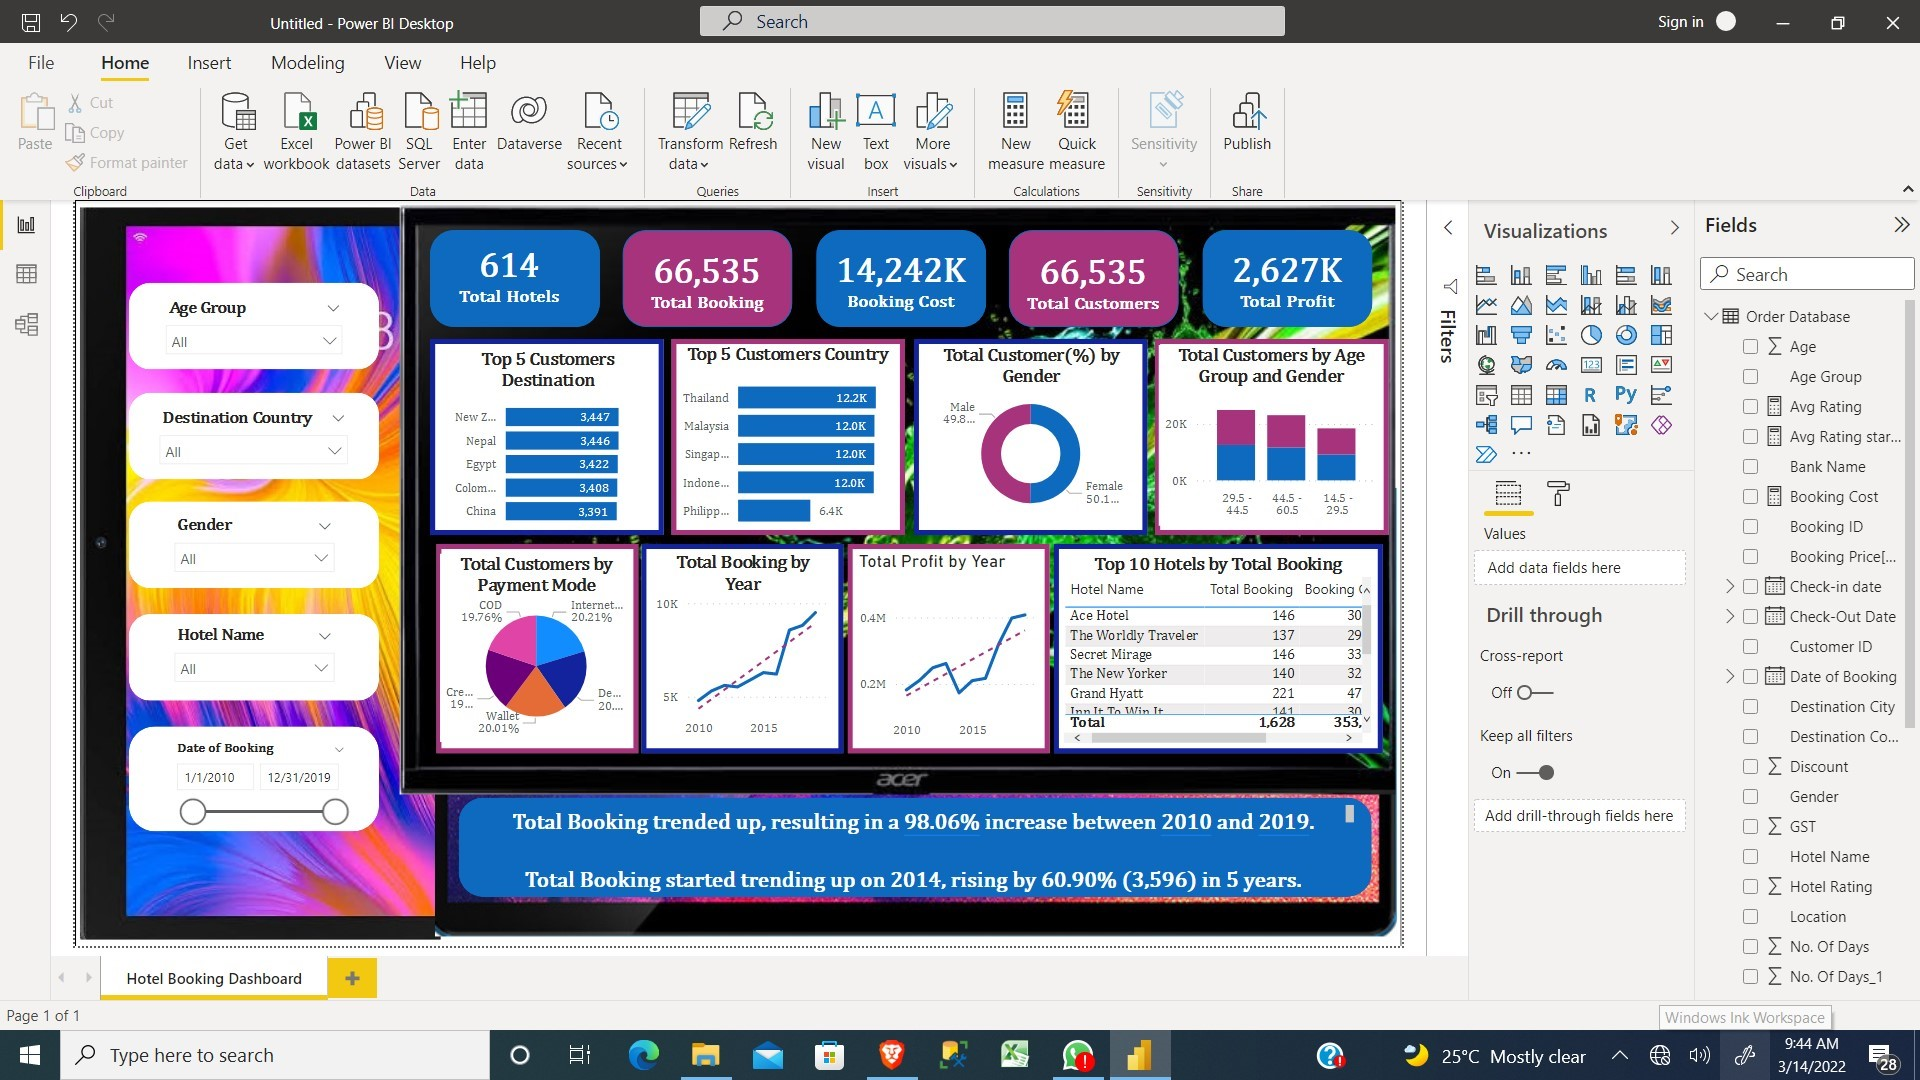

The dashboard page shown, as its layout file describes it:
{"tool":"powerbi","page":{"name":"Hotel Booking Dashboard","canvas":[1280,720],"ordinal":0},"visuals":[{"type":"shape","box":[0,0,1280,720.4],"z":0},{"type":"image","box":[0,0,357.5,720.4],"z":1000},{"type":"image","box":[342.3,269.5,937.7,451],"z":2000},{"type":"image","box":[308,0,972,578.8],"z":3000},{"type":"shape","box":[52,79.7,242,83.9],"z":4000},{"type":"slicer","fields":{"Values":["Order Database.Age Group"]},"box":[77,90.7,191.1,64.6],"z":5000},{"type":"shape","box":[52,186.1,242,83.9],"z":6000},{"type":"shape","box":[52,398.7,242,83.9],"z":7000},{"type":"shape","box":[52,291,242,83.9],"z":8000},{"type":"slicer","fields":{"Values":["Order Database.Destination Country"]},"box":[71.5,196.6,202.1,63.2],"z":9000},{"type":"slicer","fields":{"Values":["Order Database.Gender"]},"box":[85.2,299.7,174.6,66],"z":10000},{"type":"shape","box":[52,507.8,242,101.7],"z":11000},{"type":"slicer","fields":{"Values":["Order Database.Hotel Name"]},"box":[85.2,407,174.6,67.4],"z":12000},{"type":"slicer","fields":{"Values":["Order Database.Date of Booking"]},"box":[85.2,516.9,187,103.1],"z":13000},{"type":"shape","box":[528.6,28.9,163.6,93.5],"z":14000},{"type":"shape","box":[714.9,28.9,163.6,93.5],"z":15000},{"type":"shape","box":[901.2,28.9,163.6,93.5],"z":16000},{"type":"shape","box":[1087.5,28.9,163.6,93.5],"z":17000},{"type":"shape","box":[342.3,28.9,163.6,93.5],"z":18000},{"type":"card","fields":{"Values":["Order Database.Total Hotels"]},"box":[348.1,12.9,140.2,114.1],"z":19000},{"type":"card","fields":{"Values":["Order Database.Total Booking"]},"box":[540.3,17.9,138.9,115.5],"z":20000},{"type":"card","fields":{"Values":["Order Database.Booking Cost"]},"box":[727.3,17.9,138.9,114.1],"z":21000},{"type":"card","fields":{"Values":["Order Database.Total Customers"]},"box":[912.9,19.2,138.9,114.1],"z":22000},{"type":"card","fields":{"Values":["Order Database.Total Profit"]},"box":[1099.9,17.9,138.9,114.1],"z":23000},{"type":"shape","box":[342.7,133.5,225.7,189.9],"z":24000},{"type":"shape","box":[1041.9,133.5,225.7,189.9],"z":25000},{"type":"shape","box":[808.8,133.5,225.7,189.9],"z":26000},{"type":"shape","box":[575.8,133.5,225.7,189.9],"z":27000},{"type":"clusteredBarChart","title":"Top 5 Customers Destination","fields":{"Category":["Order Database.Destination Country"],"Y":["Order Database.Total Customers"]},"box":[348.2,143.1,214.7,180.3],"z":28000},{"type":"clusteredBarChart","title":"Top 5 Customers Country","fields":{"Category":["Order Database.Origin Country"],"Y":["Order Database.Total Customers"]},"box":[567.1,139,240.9,188.6],"z":29000},{"type":"donutChart","title":"Total Customer(%) by Gender","fields":{"Category":["Order Database.Gender"],"Y":["Order Database.Total Customers"]},"box":[823.1,140.4,199.6,174.8],"z":30000},{"type":"columnChart","fields":{"Y":["Order Database.Total Customers"],"Series":["Order Database.Gender"],"Category":["Order Database.Age Group"]},"box":[1046,140.4,216.1,174.8],"z":31000},{"type":"shape","box":[745.5,331.7,195.4,202.3],"z":32000},{"type":"shape","box":[944.2,331.7,317.9,202.3],"z":33000},{"type":"shape","box":[546.9,331.7,195.4,202.3],"z":34000},{"type":"shape","box":[348.2,331.7,195.4,202.3],"z":35000},{"type":"pieChart","fields":{"Category":["Order Database.Payment Mode"],"Y":["Order Database.Total Customers"]},"box":[352.3,341.3,185.8,181.7],"z":36000},{"type":"lineChart","fields":{"Y":["Order Database.Total Booking"],"Category":["Order Database.Date of Booking.Variation.Date Hierarchy.Year","Order Database.Date of Booking.Variation.Date Hierarchy.Quarter","Order Database.Date of Booking.Variation.Date Hierarchy.Month","Order Database.Date of Booking.Variation.Date Hierarchy.Day"]},"box":[554.7,340,178.9,184.4],"z":37000},{"type":"lineChart","fields":{"Category":["Order Database.Date of Booking.Variation.Date Hierarchy.Year","Order Database.Date of Booking.Variation.Date Hierarchy.Quarter","Order Database.Date of Booking.Variation.Date Hierarchy.Month","Order Database.Date of Booking.Variation.Date Hierarchy.Day"],"Y":["Order Database.Total Profit"]},"box":[751.5,337.2,184.4,188.6],"z":38000},{"type":"tableEx","title":"Top 10 Hotels by Total Booking","fields":{"Values":["Order Database.Hotel Name","Order Database.Total Booking","Order Database.Booking Cost","Avg(Order Database.Hotel Rating)"]},"box":[949.7,341.3,306.9,187.2],"z":39000},{"type":"shape","box":[370.2,576.7,880.9,96.3],"z":40000},{"type":"textbox","box":[385.4,579.4,853.3,93.6],"z":40001}]}

Visuals, with their boxes on the page's 1280x720 design canvas (x1, y1, x2, y2). These are canvas units, not pixel positions in the 1920x1080 screenshot, which may show the page scaled, cropped or inside an application window:
shape: pyautogui.locateOnScreen(0, 0, 1280, 720)
image: pyautogui.locateOnScreen(0, 0, 358, 720)
image: pyautogui.locateOnScreen(342, 270, 1280, 720)
image: pyautogui.locateOnScreen(308, 0, 1280, 579)
shape: pyautogui.locateOnScreen(52, 80, 294, 164)
slicer - Order Database.Age Group: pyautogui.locateOnScreen(77, 91, 268, 155)
shape: pyautogui.locateOnScreen(52, 186, 294, 270)
shape: pyautogui.locateOnScreen(52, 399, 294, 483)
shape: pyautogui.locateOnScreen(52, 291, 294, 375)
slicer - Order Database.Destination Country: pyautogui.locateOnScreen(72, 197, 274, 260)
slicer - Order Database.Gender: pyautogui.locateOnScreen(85, 300, 260, 366)
shape: pyautogui.locateOnScreen(52, 508, 294, 610)
slicer - Order Database.Hotel Name: pyautogui.locateOnScreen(85, 407, 260, 474)
slicer - Order Database.Date of Booking: pyautogui.locateOnScreen(85, 517, 272, 620)
shape: pyautogui.locateOnScreen(529, 29, 692, 122)
shape: pyautogui.locateOnScreen(715, 29, 878, 122)
shape: pyautogui.locateOnScreen(901, 29, 1065, 122)
shape: pyautogui.locateOnScreen(1088, 29, 1251, 122)
shape: pyautogui.locateOnScreen(342, 29, 506, 122)
card - Order Database.Total Hotels: pyautogui.locateOnScreen(348, 13, 488, 127)
card - Order Database.Total Booking: pyautogui.locateOnScreen(540, 18, 679, 133)
card - Order Database.Booking Cost: pyautogui.locateOnScreen(727, 18, 866, 132)
card - Order Database.Total Customers: pyautogui.locateOnScreen(913, 19, 1052, 133)
card - Order Database.Total Profit: pyautogui.locateOnScreen(1100, 18, 1239, 132)
shape: pyautogui.locateOnScreen(343, 134, 568, 323)
shape: pyautogui.locateOnScreen(1042, 134, 1268, 323)
shape: pyautogui.locateOnScreen(809, 134, 1034, 323)
shape: pyautogui.locateOnScreen(576, 134, 802, 323)
"Top 5 Customers Destination" clusteredBarChart: pyautogui.locateOnScreen(348, 143, 563, 323)
"Top 5 Customers Country" clusteredBarChart: pyautogui.locateOnScreen(567, 139, 808, 328)
"Total Customer(%) by Gender" donutChart: pyautogui.locateOnScreen(823, 140, 1023, 315)
columnChart - Order Database.Total Customers x Order Database.Gender: pyautogui.locateOnScreen(1046, 140, 1262, 315)
shape: pyautogui.locateOnScreen(746, 332, 941, 534)
shape: pyautogui.locateOnScreen(944, 332, 1262, 534)
shape: pyautogui.locateOnScreen(547, 332, 742, 534)
shape: pyautogui.locateOnScreen(348, 332, 544, 534)
pieChart - Order Database.Payment Mode x Order Database.Total Customers: pyautogui.locateOnScreen(352, 341, 538, 523)
lineChart - Order Database.Total Booking x Order Database.Date of Booking.Variation.Date Hierarchy.Year: pyautogui.locateOnScreen(555, 340, 734, 524)
lineChart - Order Database.Date of Booking.Variation.Date Hierarchy.Year x Order Database.Date of Booking.Variation.Date Hierarchy.Quarter: pyautogui.locateOnScreen(752, 337, 936, 526)
"Top 10 Hotels by Total Booking" tableEx: pyautogui.locateOnScreen(950, 341, 1257, 528)
shape: pyautogui.locateOnScreen(370, 577, 1251, 673)
textbox: pyautogui.locateOnScreen(385, 579, 1239, 673)
